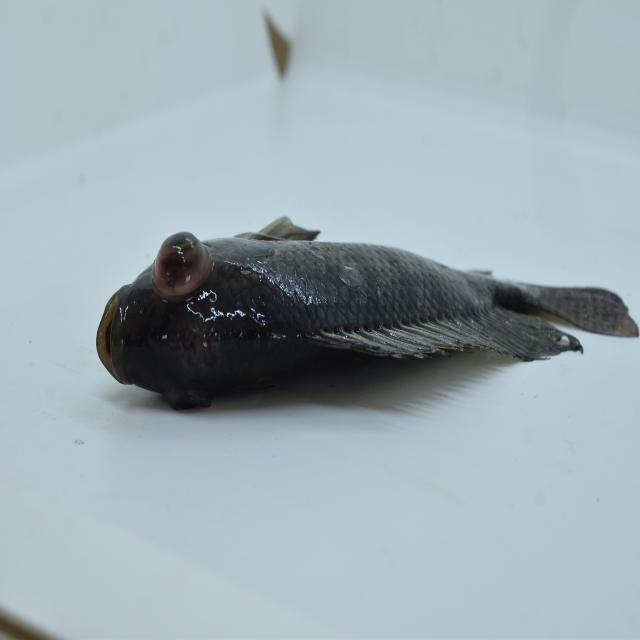streptococcus Disease: (93, 214, 639, 417)
